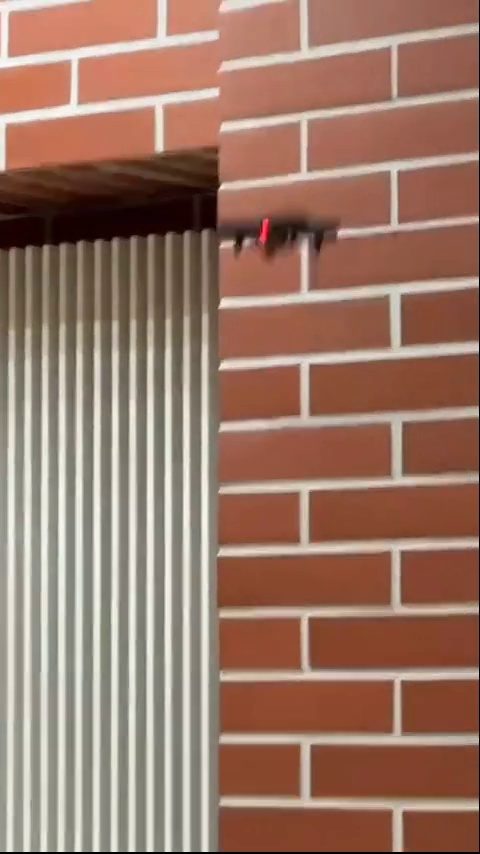drone: (204, 206, 350, 261)
